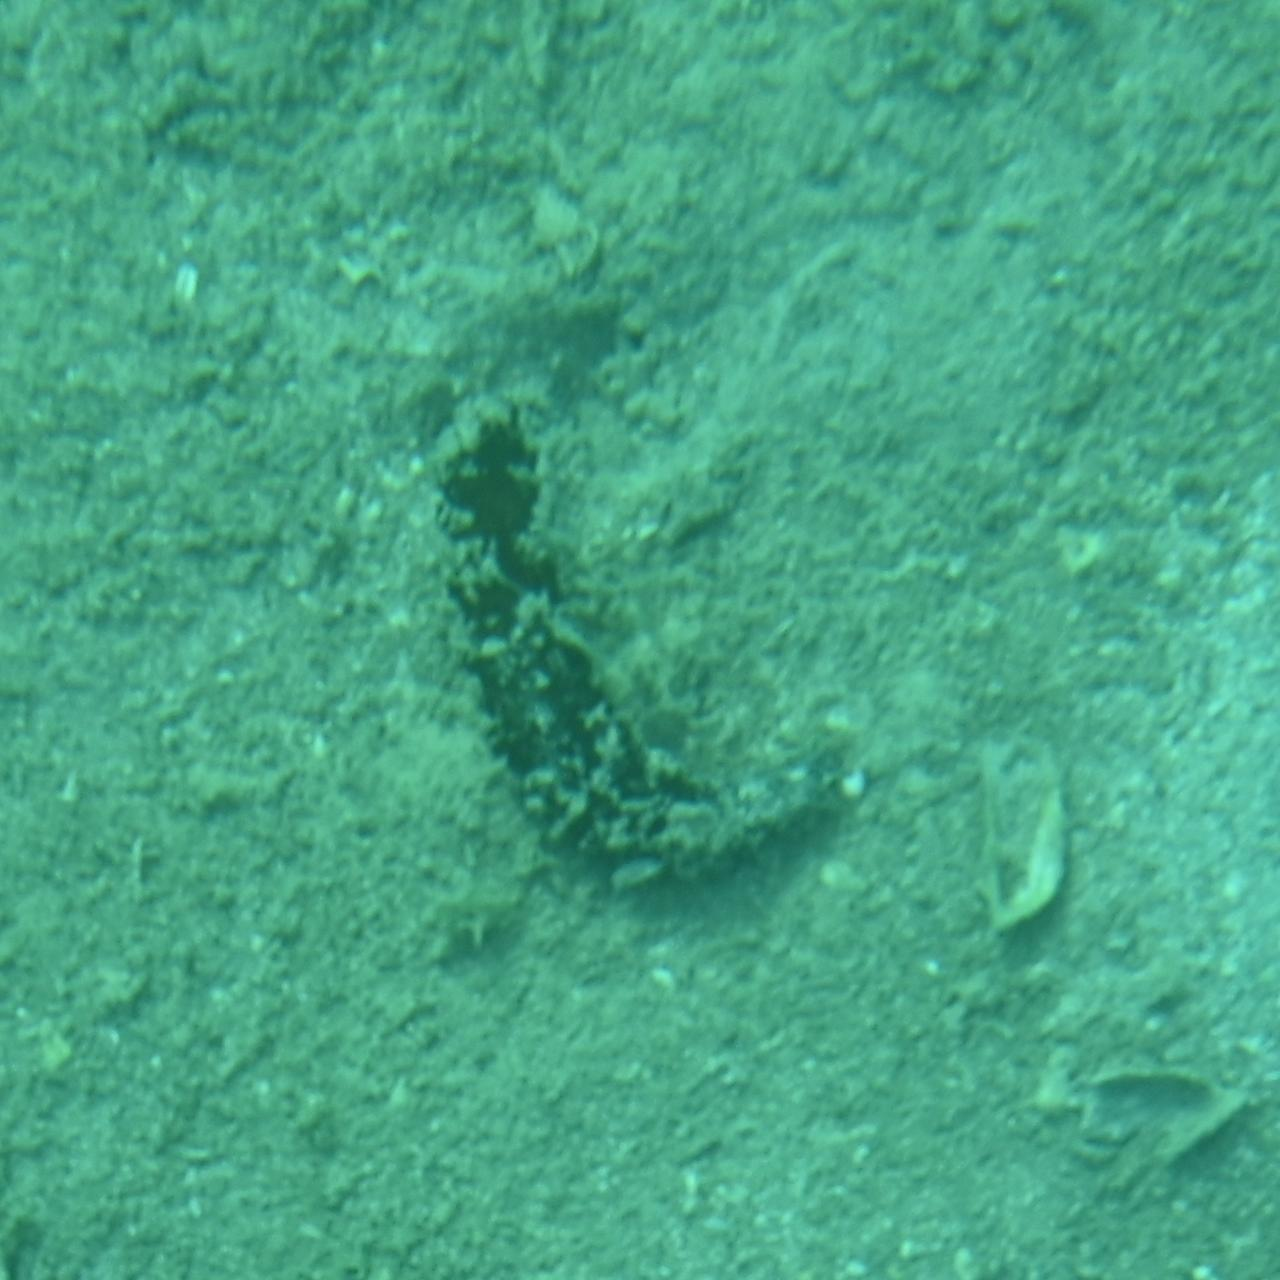Holothuria tubulosa: (432, 356, 848, 924)
